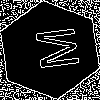M: (25, 25, 80, 73)
